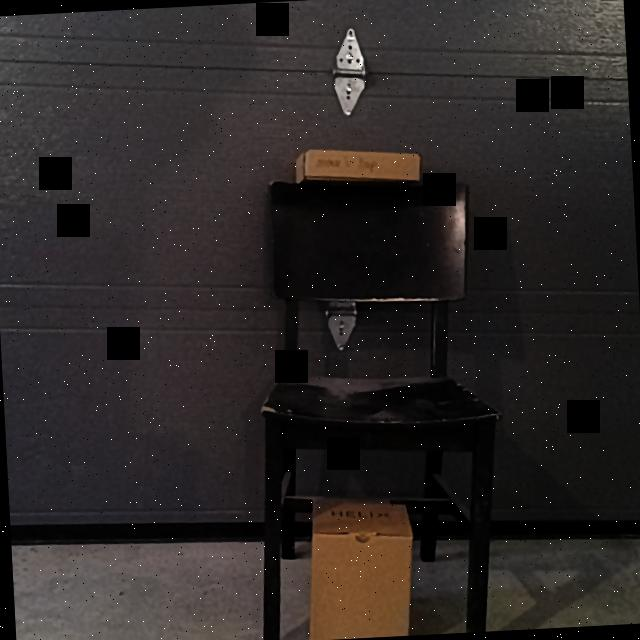box: (308, 525, 417, 640), (306, 150, 422, 184)
